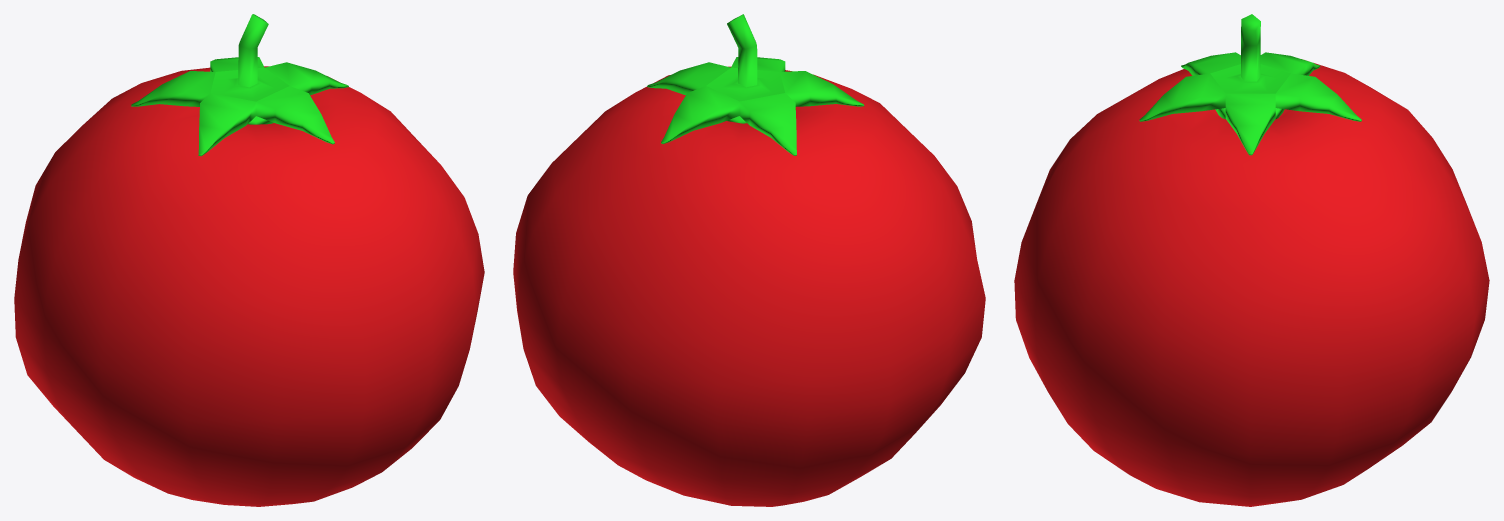
The model's file is tomato.fbx.
3 renders of one model, left to right at view 1: azimuth 30°, elevation 25°; view 2: azimuth 150°, elevation 25°; view 3: azimuth 270°, elevation 25°, orthographic.
Parts seen in each view (by area): view 1: Sphere, Cylinder; view 2: Sphere, Cylinder; view 3: Sphere, Cylinder.
Boxes of the visible parts, x1,y1,x2,y2 form: Sphere: [14, 66, 484, 506]; Cylinder: [131, 14, 348, 156]; Sphere: [513, 66, 985, 506]; Cylinder: [647, 14, 864, 155]; Sphere: [1014, 63, 1489, 506]; Cylinder: [1139, 14, 1361, 155].
Size of the model in its own units: 109 by 119 by 109.
